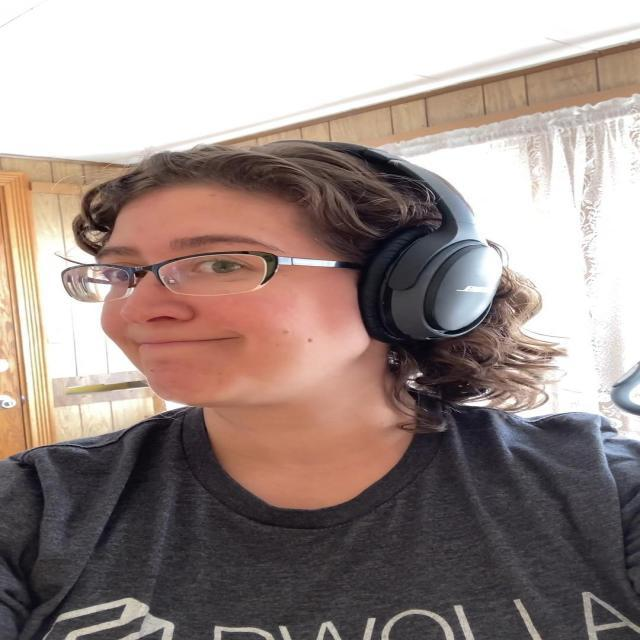no hat: (100, 170, 392, 404)
